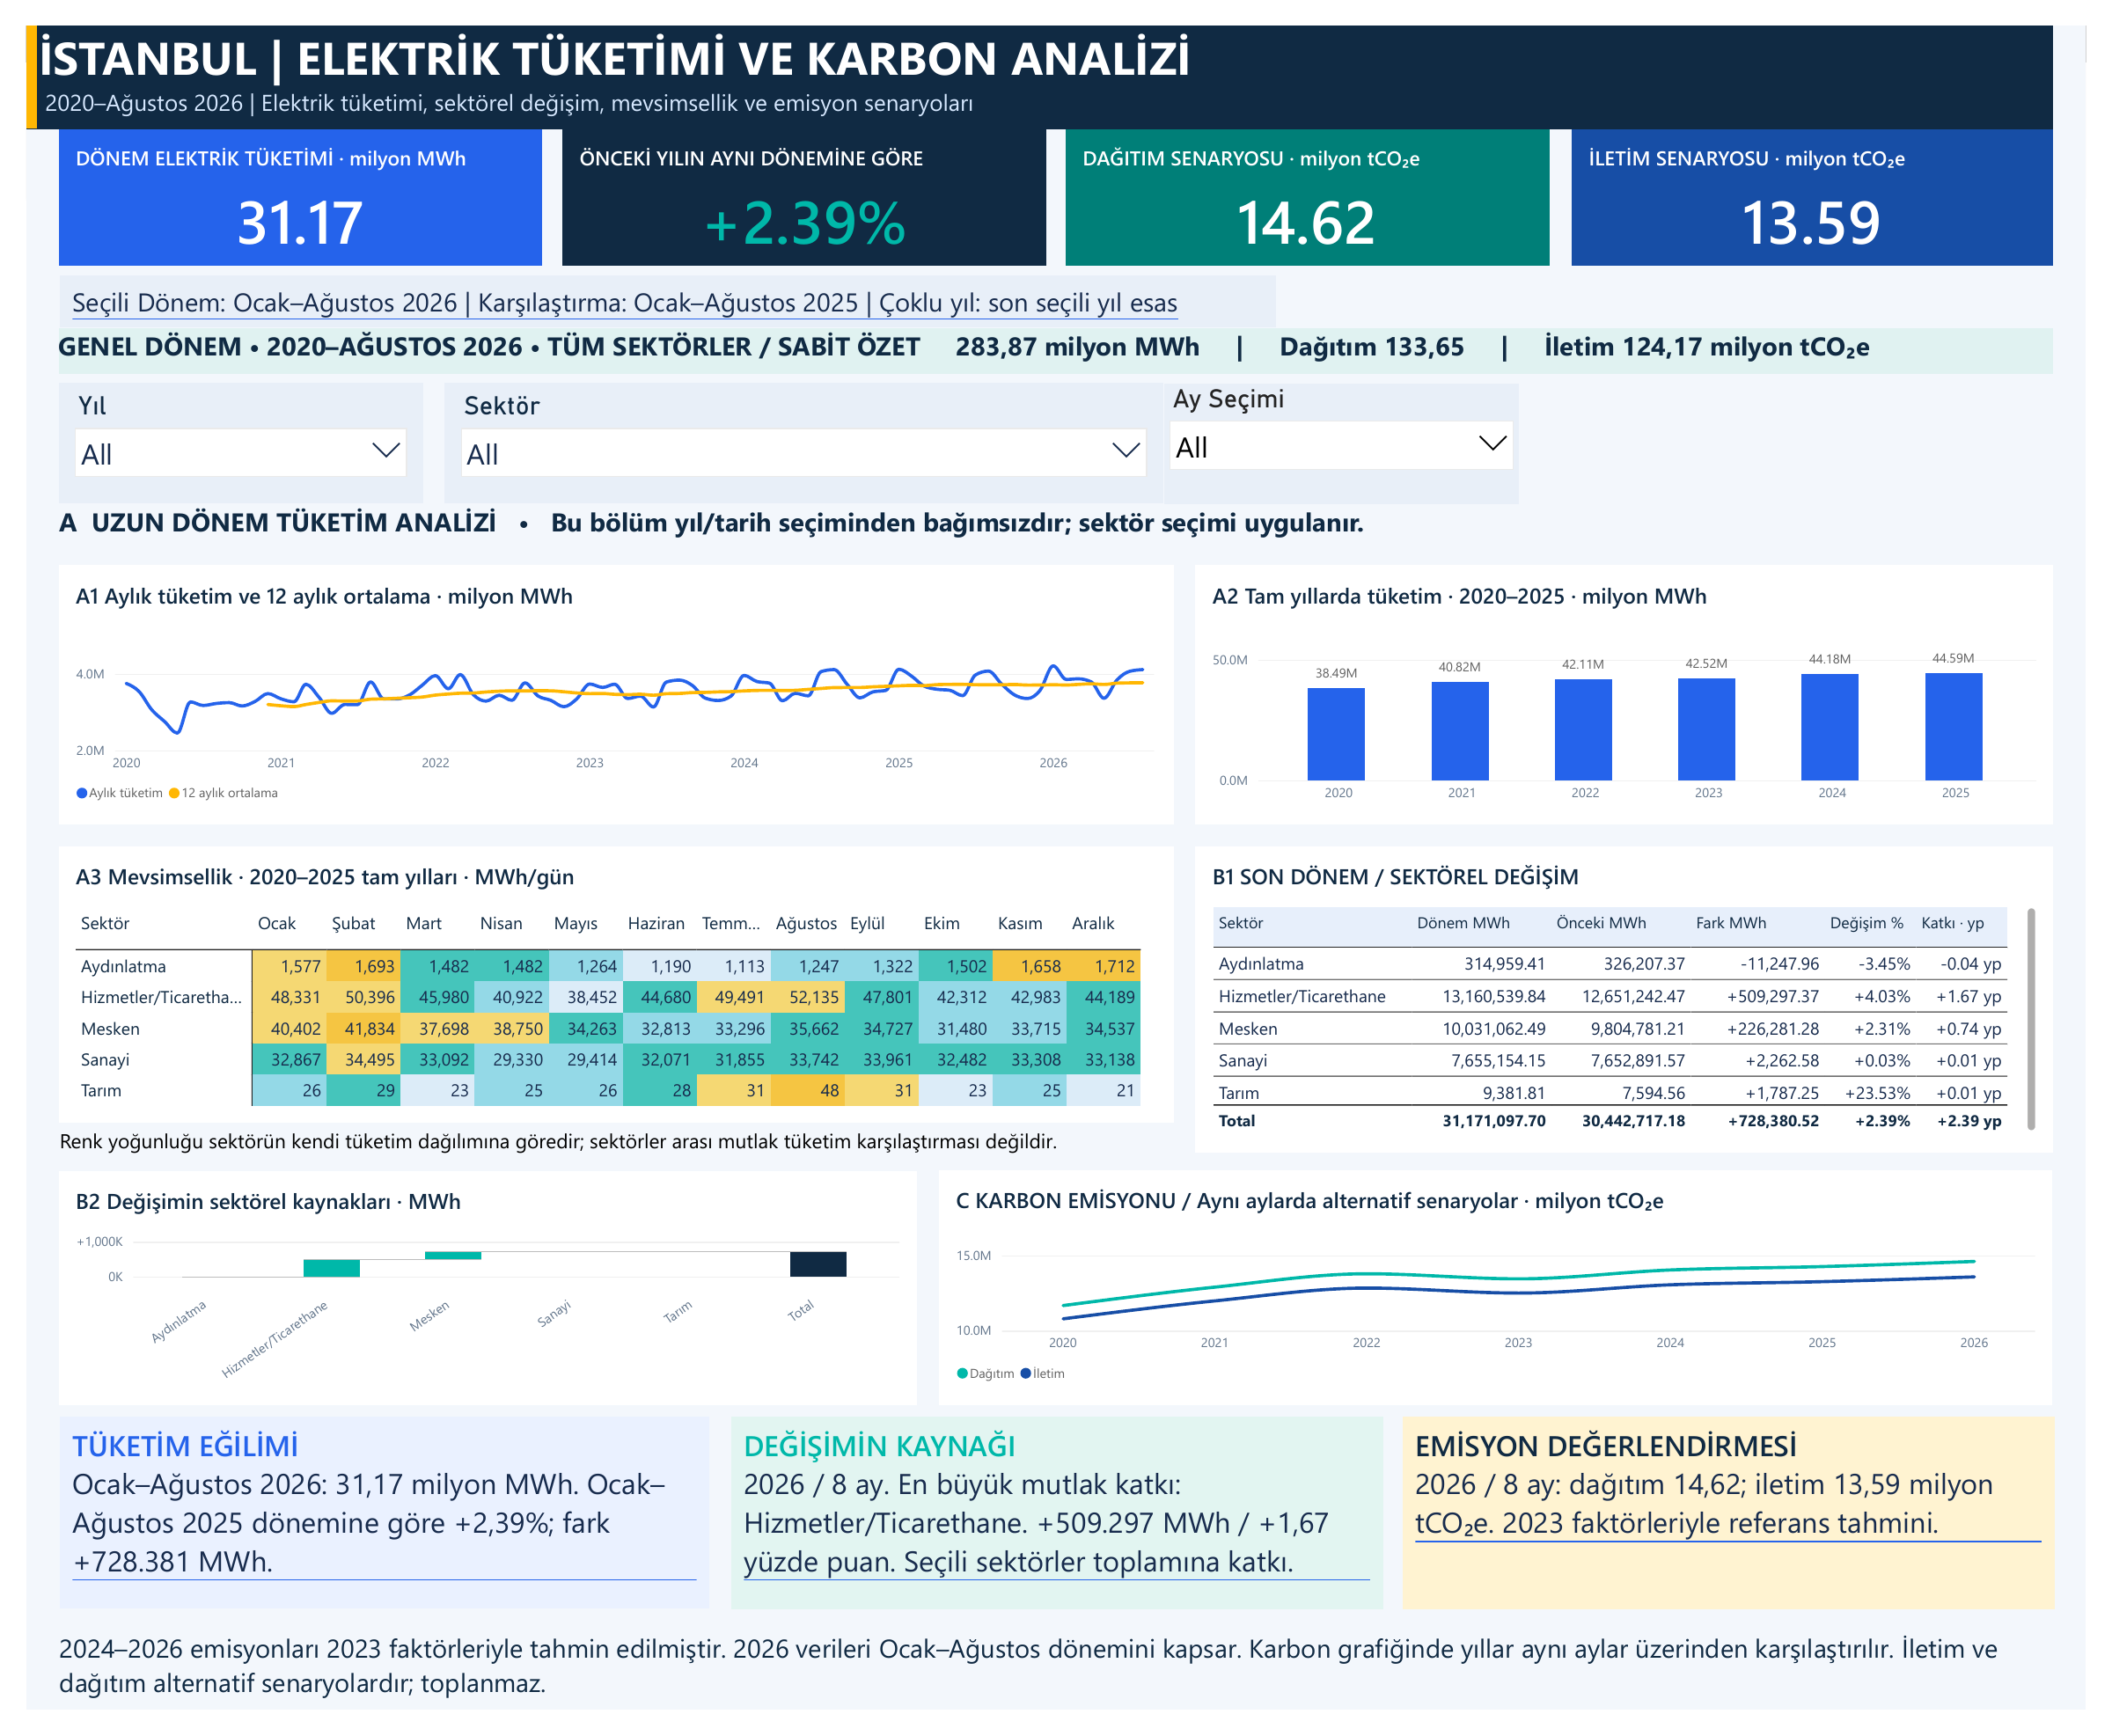

The page's visual inventory and layout, read from the dashboard file:
{"tool":"powerbi","page":{"name":"İstanbul | Portföy Analizi","canvas":[1920,1570],"ordinal":0},"visuals":[{"type":"textbox","box":[0,0,1889.9,97.2],"z":0},{"type":"textbox","box":[0,0,10,96],"z":1000},{"type":"card","title":"DÖNEM ELEKTRİK TÜKETİMİ · milyon MWh","fields":{"Values":["Elektrik_Tuketimi.KPI Tuketim Milyon"]},"box":[30.1,97.2,451.1,127.2],"z":2000},{"type":"card","title":"ÖNCEKİ YILIN AYNI DÖNEMİNE GÖRE","fields":{"Values":["Elektrik_Tuketimi.Tuketim Degisimi Yuzde"]},"box":[499.7,97.2,451.1,127.2],"z":3000},{"type":"card","title":"DAĞITIM SENARYOSU · milyon tCO₂e","fields":{"Values":["Elektrik_Tuketimi.KPI Dagitim Milyon"]},"box":[969.3,97.2,451.1,127.2],"z":4000},{"type":"card","title":"İLETİM SENARYOSU · milyon tCO₂e","fields":{"Values":["Elektrik_Tuketimi.KPI Iletim Milyon"]},"box":[1441.2,97.2,448.8,127.2],"z":5000},{"type":"textbox","box":[30.9,233,1134,47.7],"z":6000},{"type":"textbox","box":[30,282,1860,43],"z":7000},{"type":"slicer","fields":{"Values":["Dim_Takvim.Yıl"]},"box":[30,333,340,112],"z":8000},{"type":"slicer","fields":{"Values":["Dim_Sektor.tuketici_turu"]},"box":[390,333,670,112],"z":9000},{"type":"textbox","box":[30.9,446.3,1858.2,47.7],"z":10000},{"type":"lineChart","title":"A1  Aylık tüketim ve 12 aylık ortalama · milyon MWh","fields":{"Category":["Dim_Takvim.Tarih"],"Y":["Elektrik_Tuketimi.Toplam Elektrik Tuketimi","Elektrik_Tuketimi.Hareketli Ortalama 12 Ay"]},"box":[30,503,1040,242],"z":11000},{"type":"clusteredColumnChart","title":"A2  Tam yıllarda tüketim · 2020–2025 · milyon MWh","fields":{"Category":["Dim_Takvim.Yıl"],"Y":["Elektrik_Tuketimi.Toplam Elektrik Tuketimi"]},"box":[1090,503,800,242],"z":12000},{"type":"pivotTable","title":"A3  Mevsimsellik · 2020–2025 tam yılları · MWh/gün","fields":{"Columns":["Dim_Takvim.Ay_Adi"],"Rows":["Dim_Sektor.tuketici_turu"],"Values":["Elektrik_Tuketimi.Gunluk Ortalama Tuketim"]},"box":[30,765,1040,258],"z":14000},{"type":"textbox","box":[30.9,1027.4,1038.6,39.3],"z":15000},{"type":"tableEx","title":"B1  SON DÖNEM / SEKTÖREL DEĞİŞİM","fields":{"Values":["Dim_Sektor.tuketici_turu","Elektrik_Tuketimi.Donem Tuketimi","Elektrik_Tuketimi.Onceki Yil Ayni Donem Tuketimi","Elektrik_Tuketimi.Tuketim Degisimi MWh","Elektrik_Tuketimi.Tuketim Degisimi Yuzde","Elektrik_Tuketimi.Sektor Katkisi Yuzde Puan"]},"box":[1090,765,800,286],"z":16000},{"type":"waterfallChart","title":"B2  Değişimin sektörel kaynakları · MWh","fields":{"Category":["Dim_Sektor.tuketici_turu"],"Y":["Elektrik_Tuketimi.Tuketim Degisimi MWh"]},"box":[30,1068,800,218],"z":17000},{"type":"lineChart","title":"C  KARBON EMİSYONU / Aynı aylarda alternatif senaryolar · milyon tCO₂e","fields":{"Category":["Dim_Takvim.Yıl"],"Y":["Elektrik_Tuketimi.Ayni Aylarda Dagitim Emisyonu","Elektrik_Tuketimi.Ayni Aylarda Iletim Emisyonu"]},"box":[850.5,1066.7,1038.6,218.9],"z":18000},{"type":"textbox","box":[30.9,1496.1,1858.2,64.6],"z":20000},{"type":"textbox","box":[30.9,1296.8,606.3,179.6],"z":21000},{"type":"textbox","box":[656.8,1296.8,608,180],"z":22000},{"type":"textbox","box":[1282.8,1296.8,608,180],"z":23000},{"type":"slicer","fields":{"Values":["Dim_Takvim.Ay_Adi"]},"box":[1061.1,334,331.2,112.3],"z":24000}]}

Visuals, with their boxes in screenshot pixels (x1, y1, x2, y2), scaled from the page's 1920x1570 canvas onto the 2112x1736 screenshot:
textbox: x1=0 y1=0 x2=2079 y2=107
textbox: x1=0 y1=0 x2=11 y2=106
"DÖNEM ELEKTRİK TÜKETİMİ · milyon MWh" card: x1=33 y1=107 x2=530 y2=248
"ÖNCEKİ YILIN AYNI DÖNEMİNE GÖRE" card: x1=550 y1=107 x2=1045 y2=248
"DAĞITIM SENARYOSU · milyon tCO₂e" card: x1=1067 y1=107 x2=1563 y2=248
"İLETİM SENARYOSU · milyon tCO₂e" card: x1=1586 y1=107 x2=2079 y2=248
textbox: x1=34 y1=258 x2=1281 y2=311
textbox: x1=33 y1=311 x2=2079 y2=359
slicer - Dim_Takvim.Yıl: x1=33 y1=368 x2=407 y2=492
slicer - Dim_Sektor.tuketici_turu: x1=429 y1=368 x2=1166 y2=492
textbox: x1=34 y1=494 x2=2078 y2=546
"A1  Aylık tüketim ve 12 aylık ortalama · milyon MWh" lineChart: x1=33 y1=556 x2=1177 y2=824
"A2  Tam yıllarda tüketim · 2020–2025 · milyon MWh" clusteredColumnChart: x1=1199 y1=556 x2=2079 y2=824
"A3  Mevsimsellik · 2020–2025 tam yılları · MWh/gün" pivotTable: x1=33 y1=846 x2=1177 y2=1132
textbox: x1=34 y1=1136 x2=1177 y2=1180
"B1  SON DÖNEM / SEKTÖREL DEĞİŞİM" tableEx: x1=1199 y1=846 x2=2079 y2=1162
"B2  Değişimin sektörel kaynakları · MWh" waterfallChart: x1=33 y1=1181 x2=913 y2=1422
"C  KARBON EMİSYONU / Aynı aylarda alternatif senaryolar · milyon tCO₂e" lineChart: x1=935 y1=1180 x2=2078 y2=1422
textbox: x1=34 y1=1654 x2=2078 y2=1725
textbox: x1=34 y1=1434 x2=700 y2=1632
textbox: x1=722 y1=1434 x2=1391 y2=1633
textbox: x1=1412 y1=1434 x2=2080 y2=1633
slicer - Dim_Takvim.Ay_Adi: x1=1167 y1=370 x2=1531 y2=494
